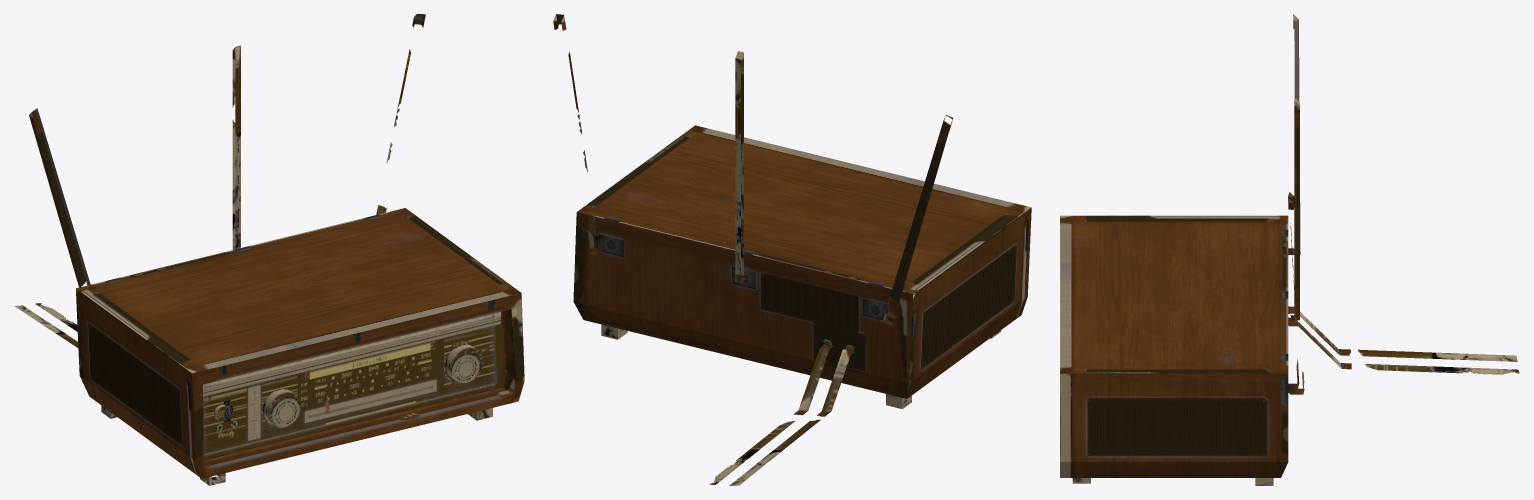
File: RADIO.fbx
3 renders of one model, left to right at view 1: azimuth 30°, elevation 25°; view 2: azimuth 150°, elevation 25°; view 3: azimuth 270°, elevation 25°, orthographic. The views are drawn at different scales.
Parts seen in each view (by area): view 1: RADIO; view 2: RADIO; view 3: RADIO.
Part boxes in pixels (left/top/right/bottom): RADIO: left=14, top=14, right=524, bottom=485; RADIO: left=553, top=14, right=1031, bottom=485; RADIO: left=1060, top=14, right=1519, bottom=485.
Size of the model in its own units: 116 by 91.42 by 120.
